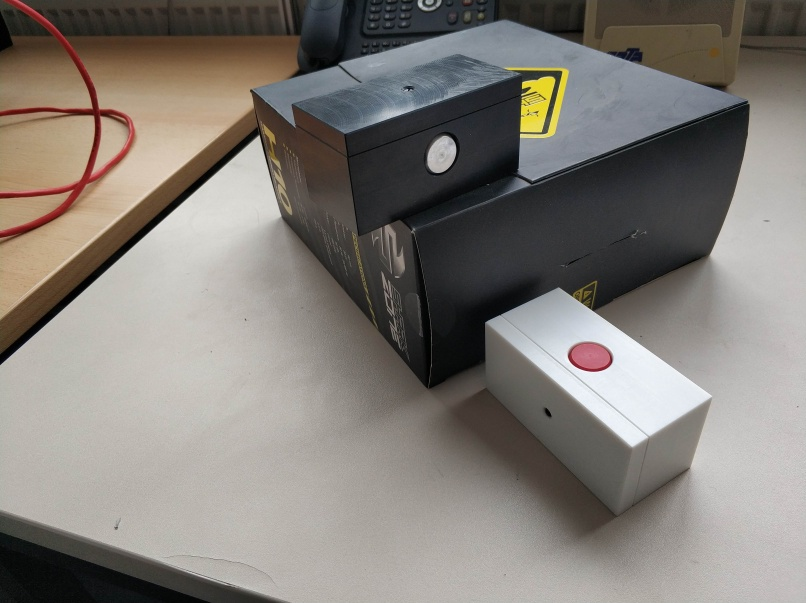black+black+silver: (289, 49, 525, 237)
white+white+red: (485, 283, 716, 518)
